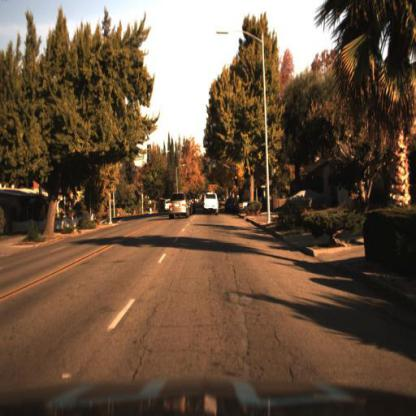car: (286, 183, 333, 210), (169, 192, 191, 219), (222, 192, 243, 216), (202, 192, 219, 218)
trafficLight-Red: (138, 178, 146, 196), (243, 163, 251, 180), (202, 153, 210, 168), (232, 173, 240, 188)
